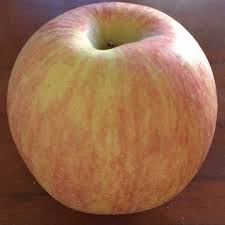apple: (7, 2, 222, 217)
